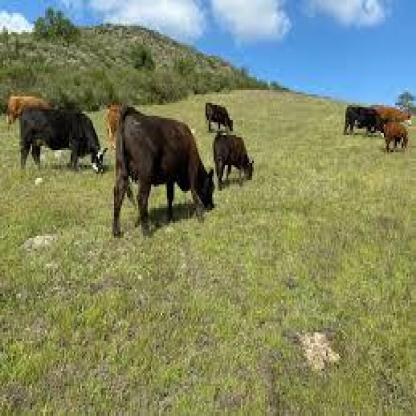cow: (112, 108, 216, 239), (17, 108, 108, 173), (212, 132, 254, 190), (7, 95, 52, 130), (344, 105, 385, 139), (204, 101, 234, 133), (106, 101, 124, 152), (383, 124, 409, 154), (376, 106, 413, 123)
